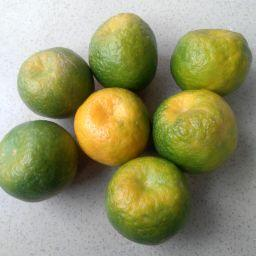orange: (104, 154, 192, 246), (151, 89, 240, 174), (0, 120, 79, 203), (74, 86, 152, 167), (16, 46, 96, 119), (169, 27, 253, 96), (88, 11, 159, 92)
